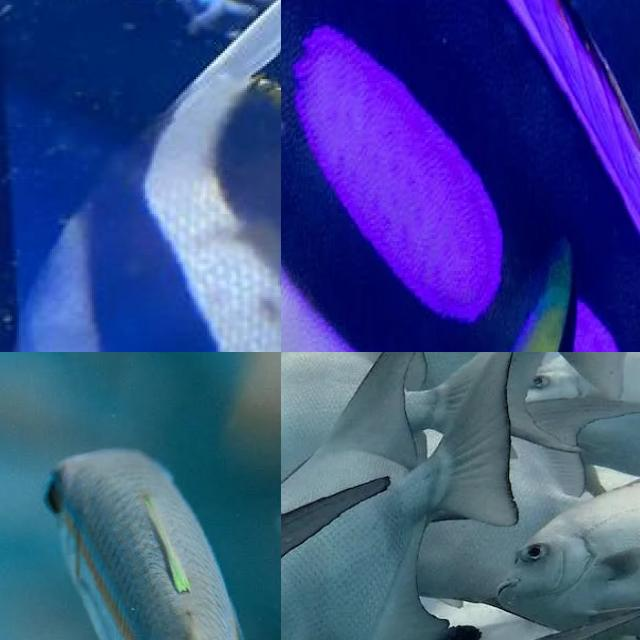fish: (281, 0, 640, 352), (0, 0, 281, 352), (0, 352, 101, 640)
